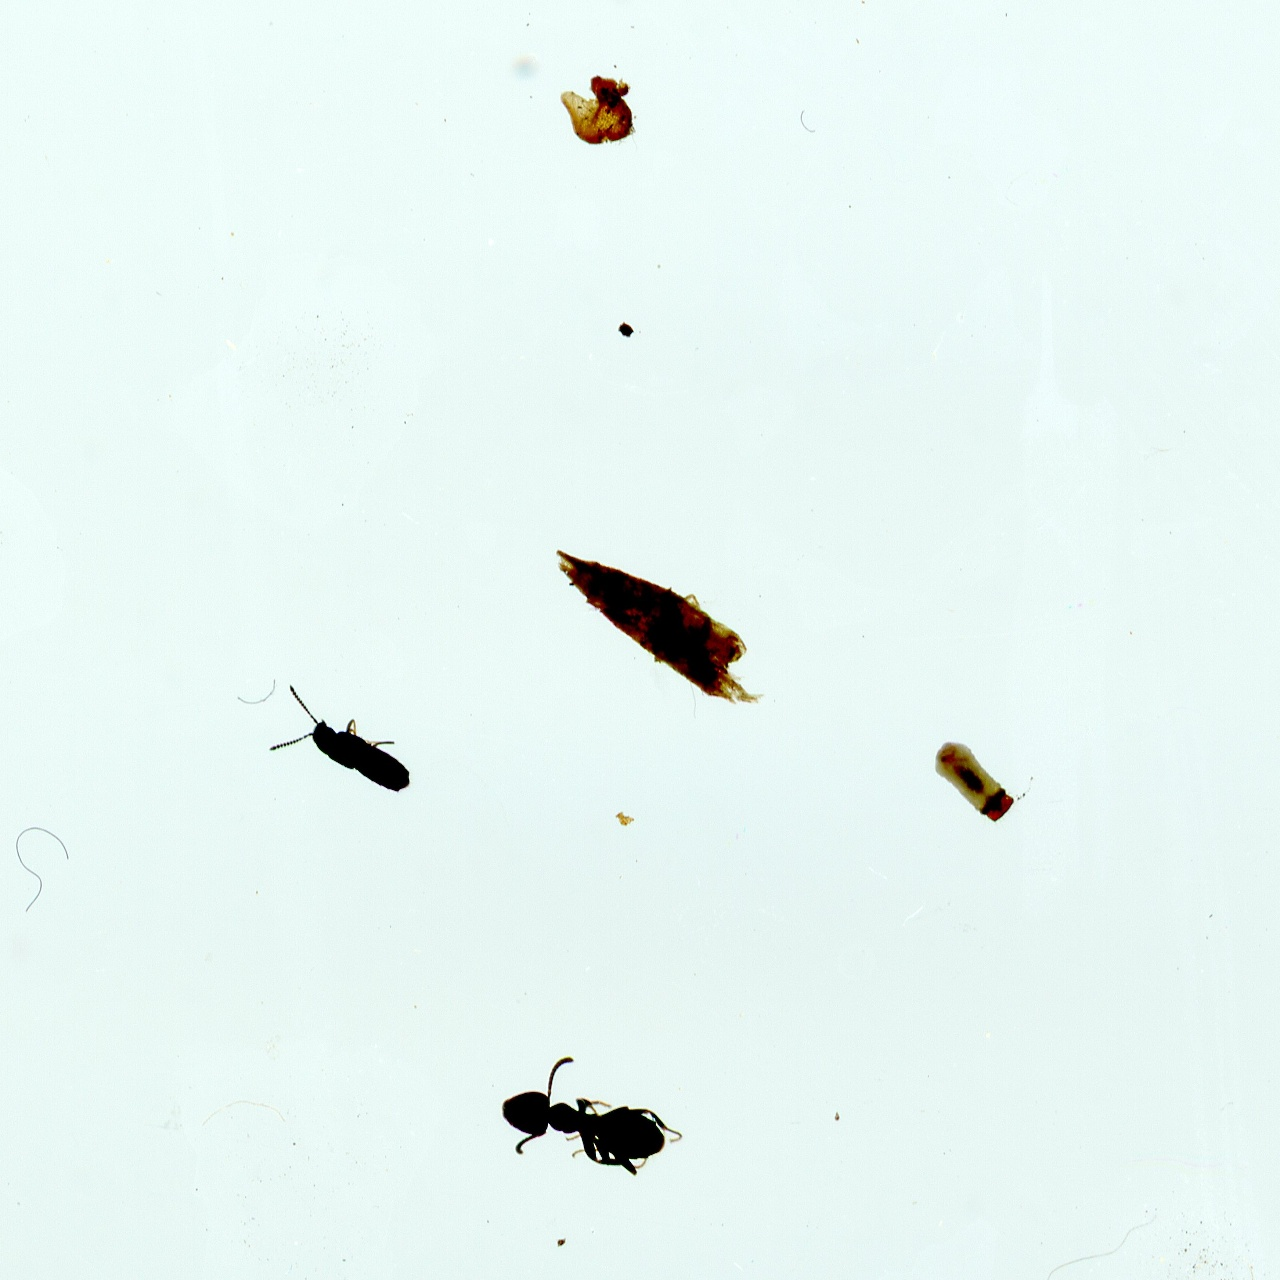arthropod: (232, 641, 438, 852), (493, 1052, 697, 1180), (911, 725, 1042, 851)
